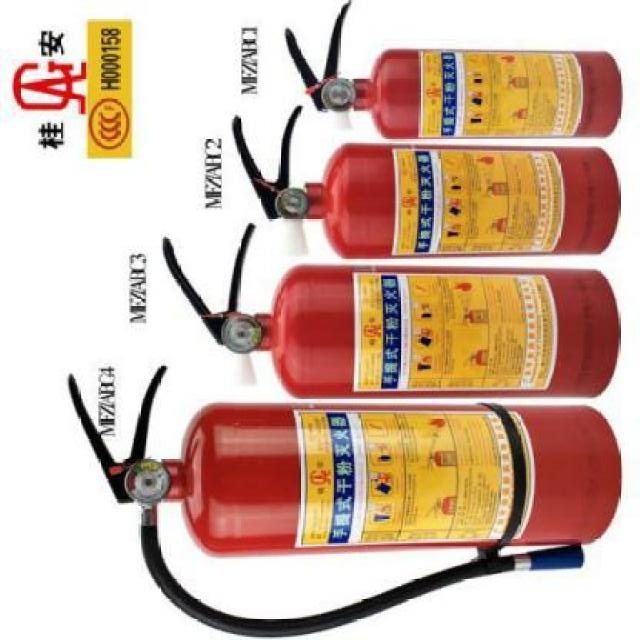fire extinguisher: (66, 365, 623, 638), (162, 222, 620, 401), (230, 103, 621, 262), (284, 0, 621, 140)
